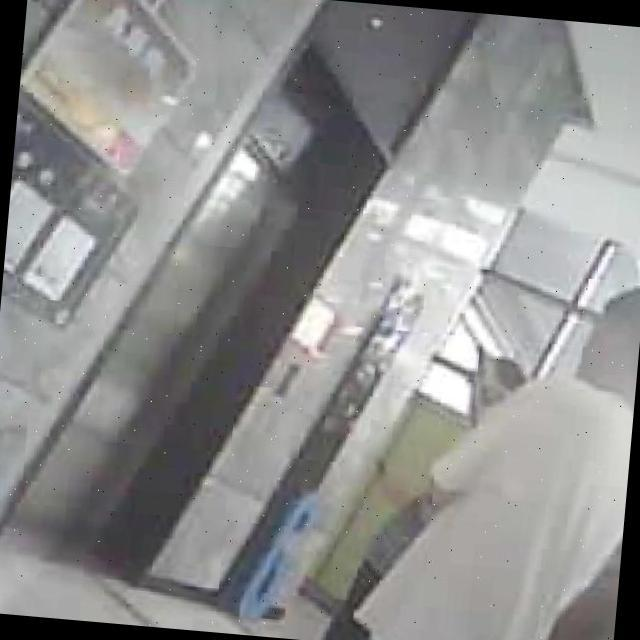person: (339, 255, 640, 640)
